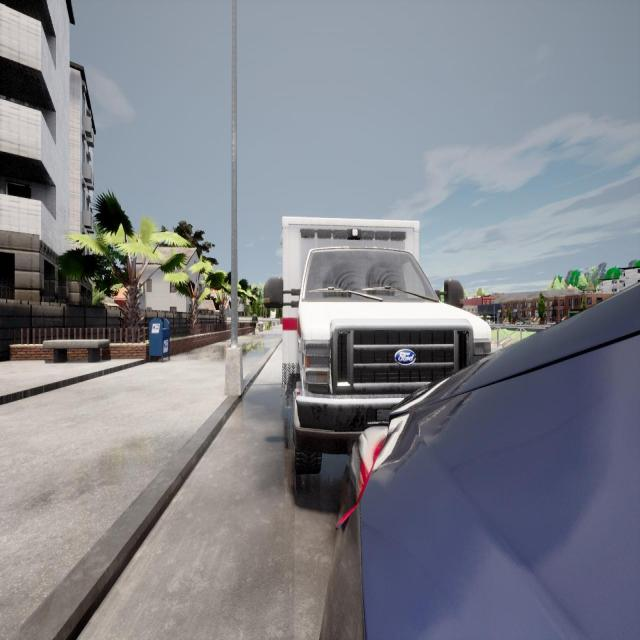Pedestrian: (252, 311, 258, 334)
Vehicle: (320, 284, 640, 640), (264, 218, 491, 473)
